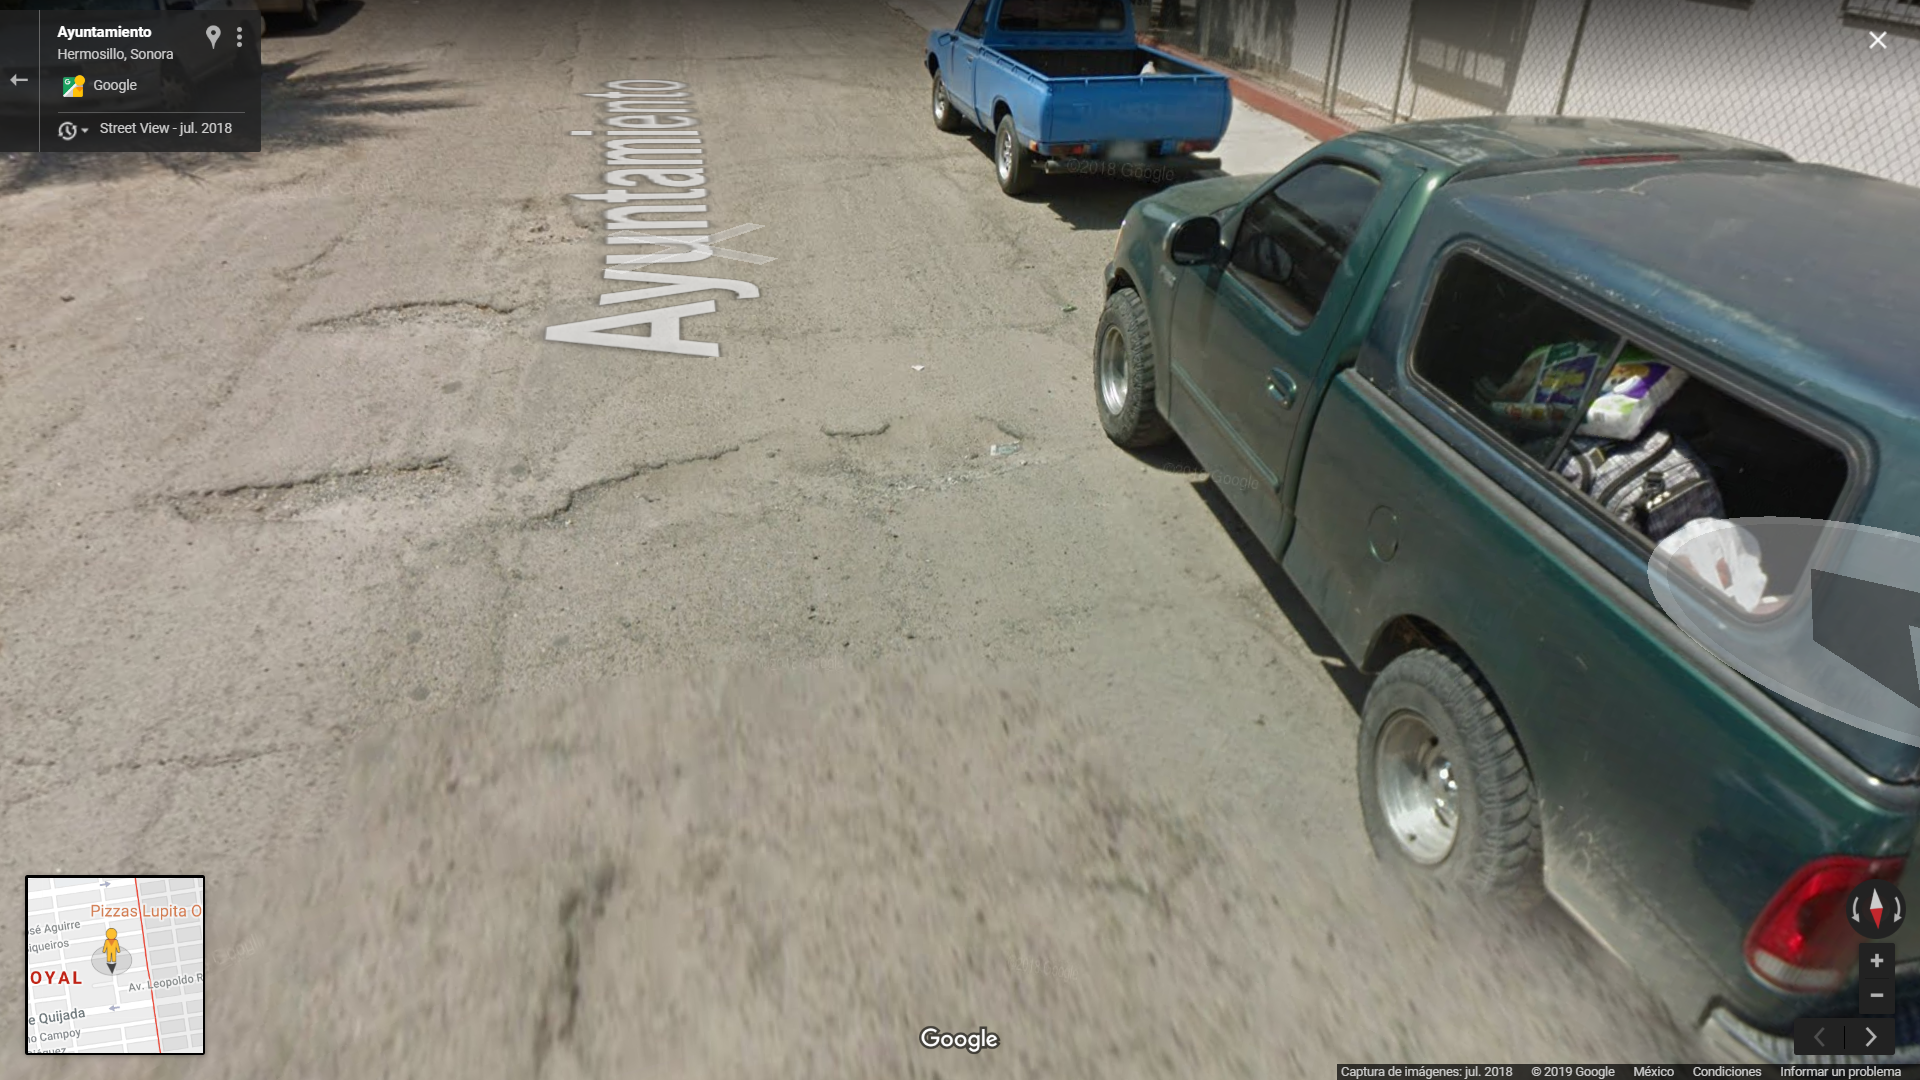pothole: (527, 364, 1040, 582), (175, 430, 489, 545), (294, 274, 510, 361)
